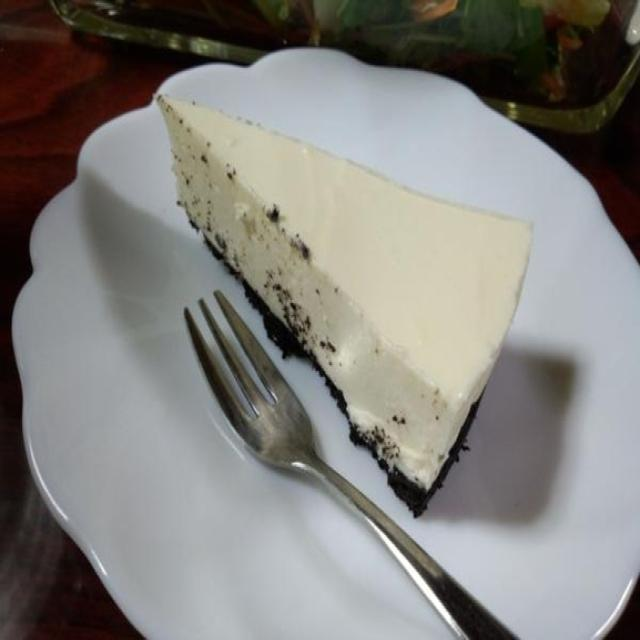蛋糕甜品: (6, 27, 604, 634)
